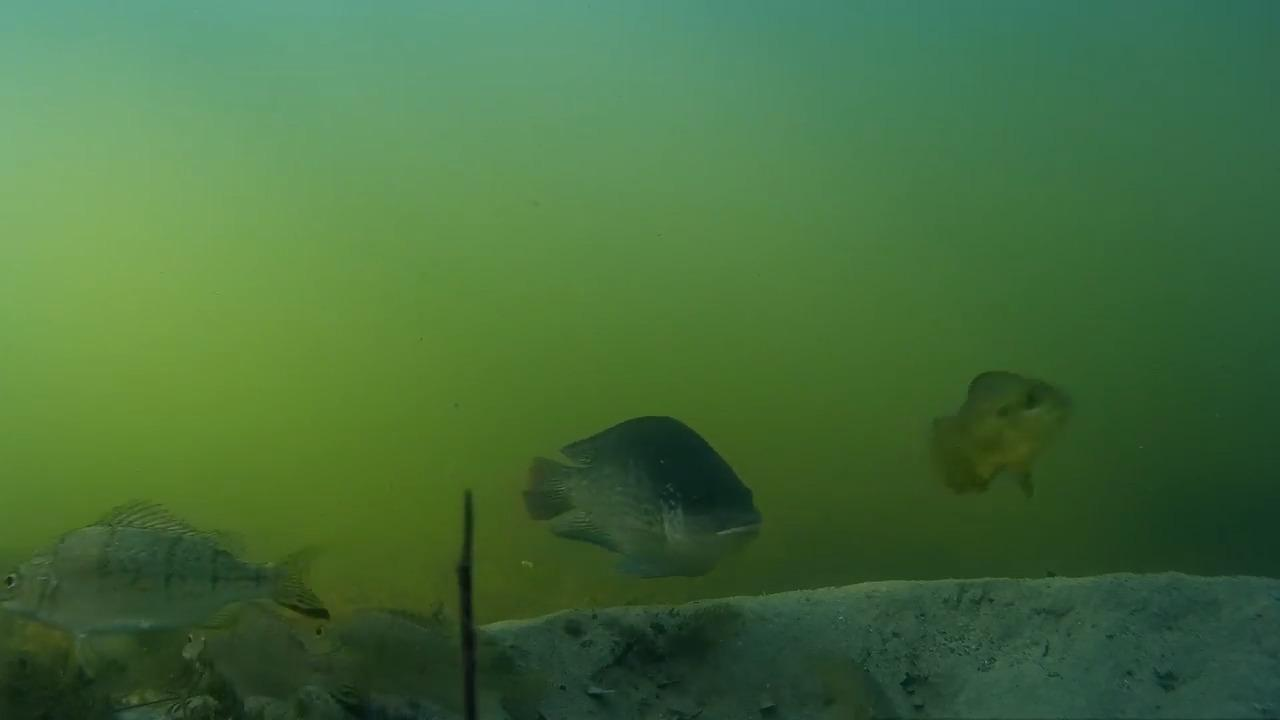Tilapia: (0, 505, 350, 650), (515, 410, 775, 581), (298, 600, 537, 720), (914, 371, 1085, 501)
